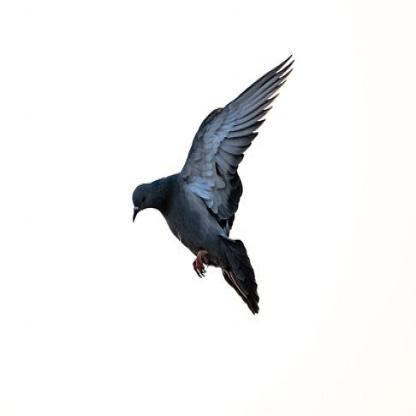Flying Rat: (127, 63, 294, 317)
